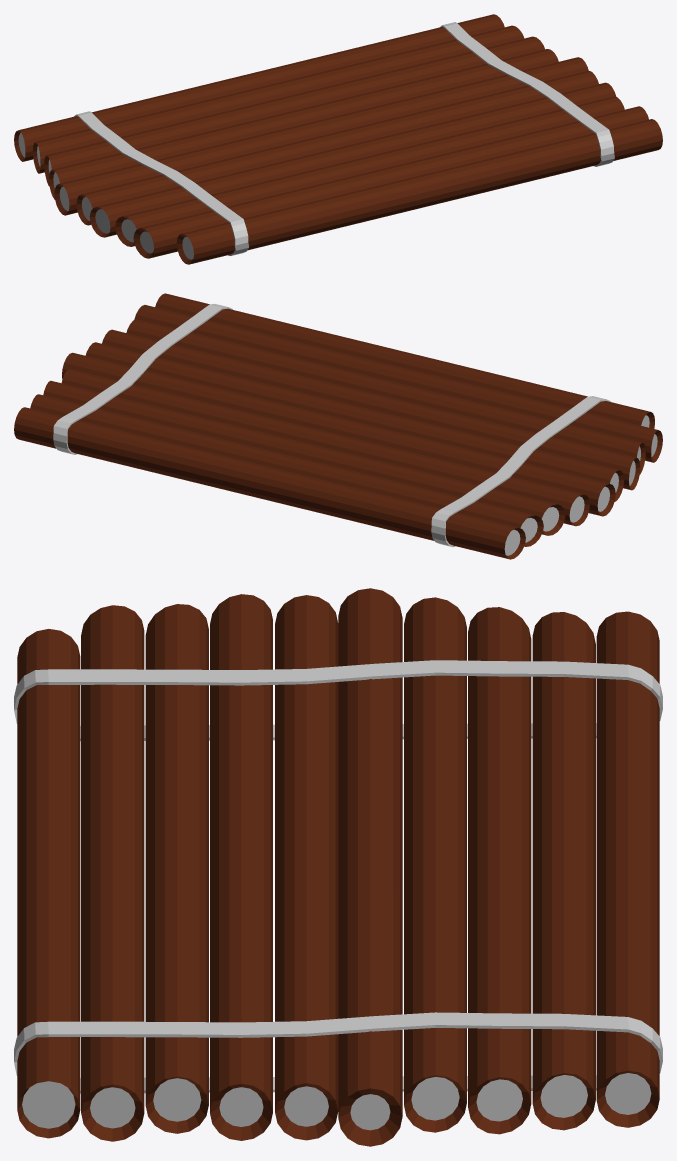
The model's file is raft.FBX.
The picture shows the model from 3 angles, top to bottom: view 1: azimuth 30°, elevation 25°; view 2: azimuth 150°, elevation 25°; view 3: azimuth 270°, elevation 25°; orthographic projection. The views are drawn at different scales.
Parts seen in each view (by area): view 1: Plane.002; view 2: Plane.002; view 3: Plane.002.
Boxes of the visible parts, x1=… form: Plane.002: x1=14, y1=14, x2=662, y2=264; Plane.002: x1=14, y1=293, x2=662, y2=559; Plane.002: x1=14, y1=588, x2=662, y2=1146.
Bounding box in the file's own units: 441 × 25.84 × 241.
